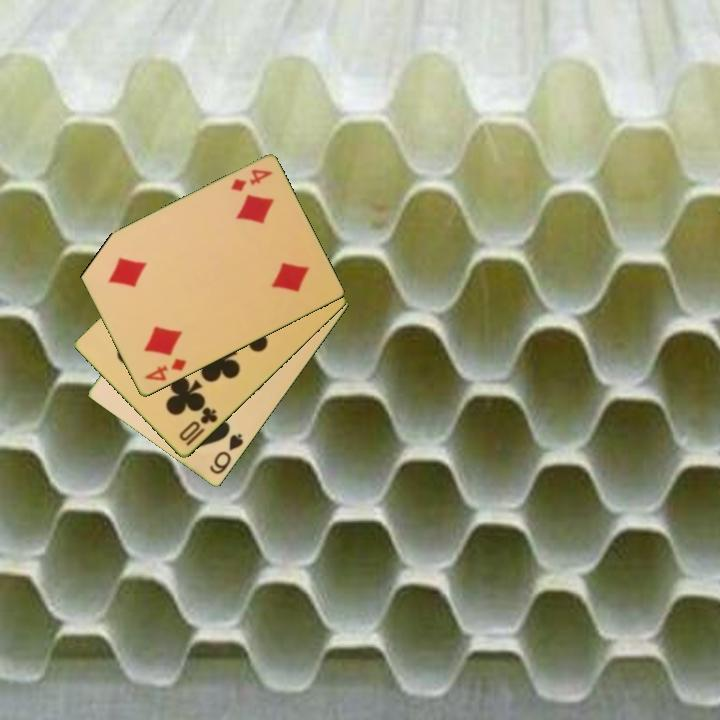10c: (176, 404, 221, 449)
4d: (227, 166, 275, 195), (142, 355, 189, 384)
6s: (206, 430, 246, 478)
